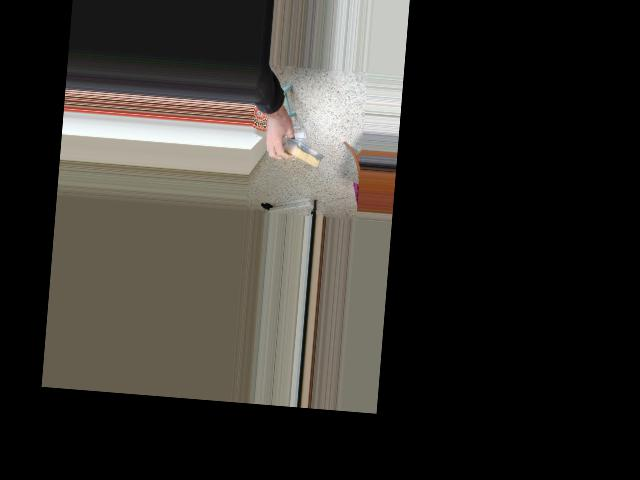cheese: (258, 124, 329, 182)
